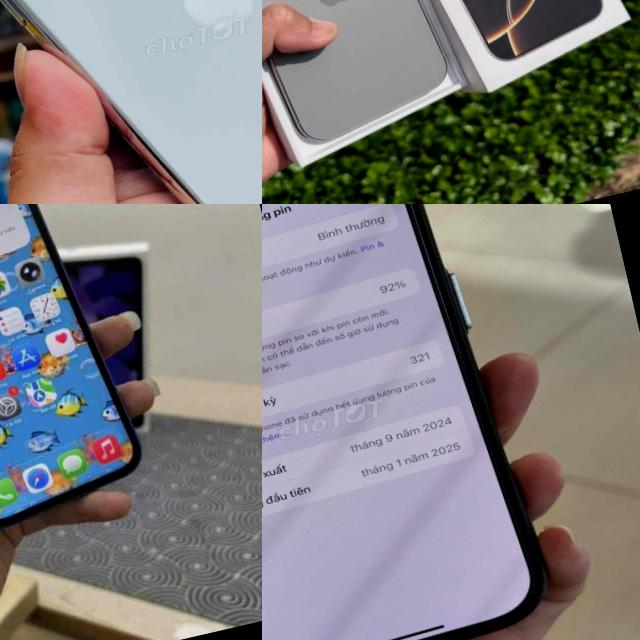gen_11: (0, 0, 262, 204)
gen_12_13: (0, 204, 154, 546)
gen_15: (262, 204, 561, 640)
gen_16: (262, 0, 445, 140)
